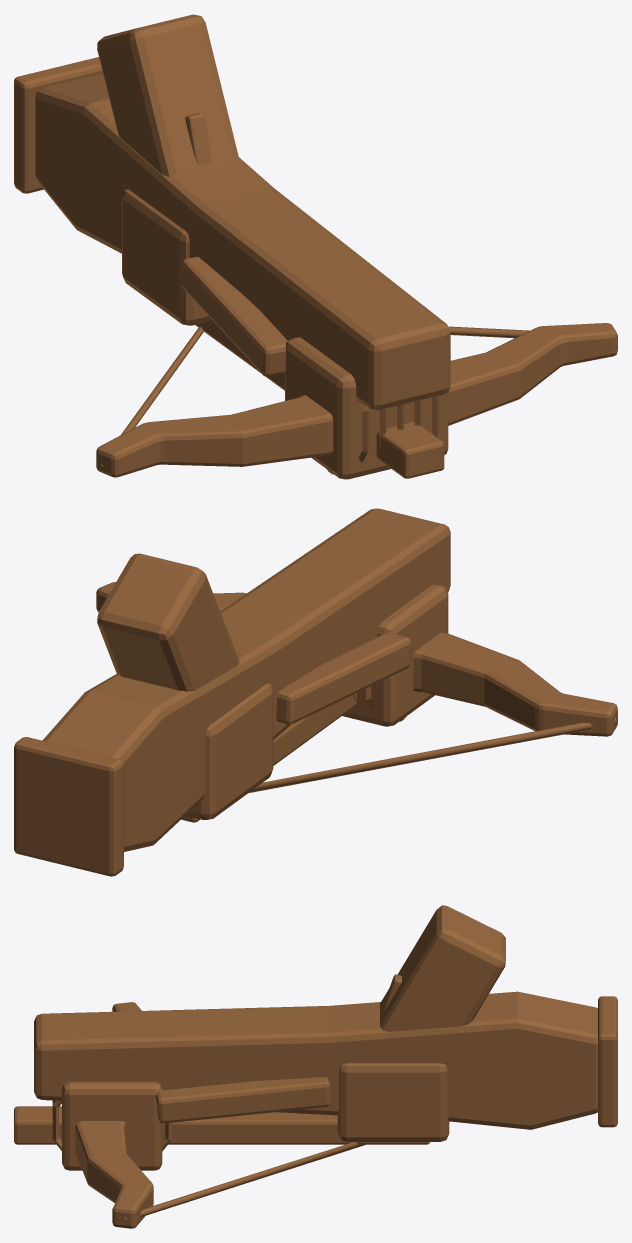
File: AuxiliaImprovisedCrossbow.fbx
The picture shows the model from 3 angles, top to bottom: view 1: azimuth 30°, elevation 25°; view 2: azimuth 150°, elevation 25°; view 3: azimuth 270°, elevation 25°; orthographic projection. The views are drawn at different scales.
Parts seen in each view (by area): view 1: AuxiliaImprovisedCrossbow_GameExport; view 2: AuxiliaImprovisedCrossbow_GameExport; view 3: AuxiliaImprovisedCrossbow_GameExport.
Boxes of the visible parts, x1,y1,x2,y2 form: AuxiliaImprovisedCrossbow_GameExport: (14,14,617,479); AuxiliaImprovisedCrossbow_GameExport: (14,508,617,876); AuxiliaImprovisedCrossbow_GameExport: (14,905,617,1228).
Bounding box in the file's own units: 44.46 × 54.1 × 24.46.
